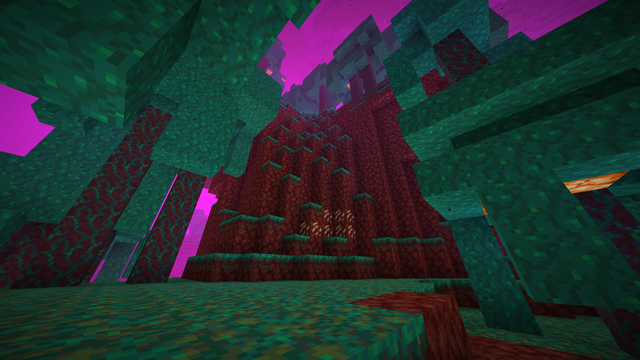quartz: (299, 206, 356, 237)
